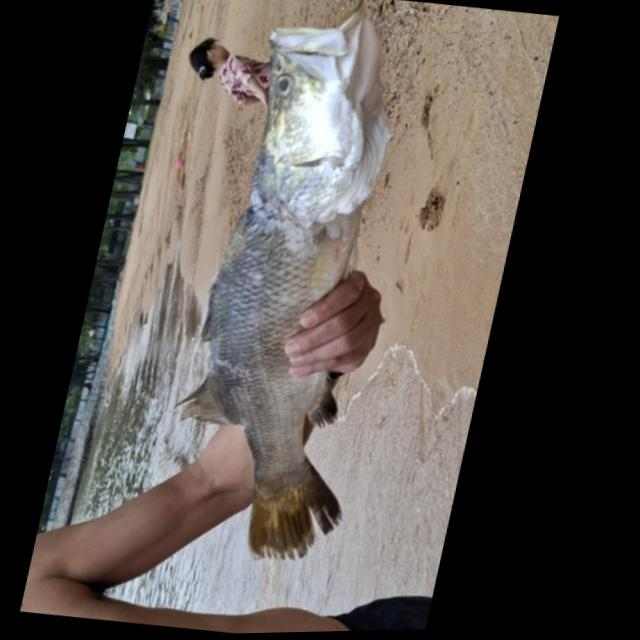Seabass: (143, 0, 454, 570)
